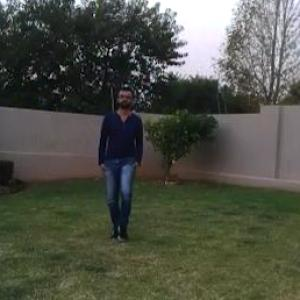follow: (92, 82, 146, 240)
